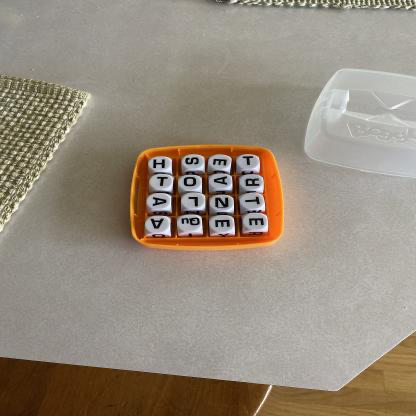a: (150, 195, 172, 210), (148, 218, 170, 231), (212, 175, 233, 188)
e: (245, 215, 268, 231), (211, 217, 235, 232), (212, 155, 231, 170)
h: (150, 157, 173, 172)
l: (185, 195, 206, 211)
n: (213, 194, 233, 212)
o: (181, 176, 203, 190)
qu: (180, 215, 203, 232)
r: (241, 176, 263, 191)
s: (183, 155, 206, 170)
t: (241, 194, 264, 211), (239, 154, 260, 170), (153, 175, 173, 189)
